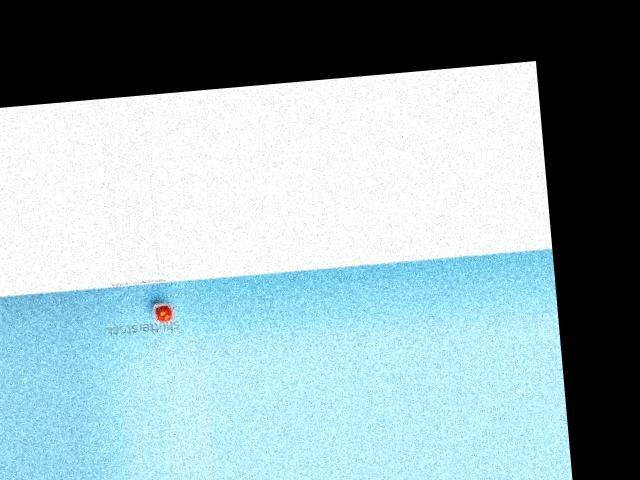tomato: (154, 305, 171, 322)
